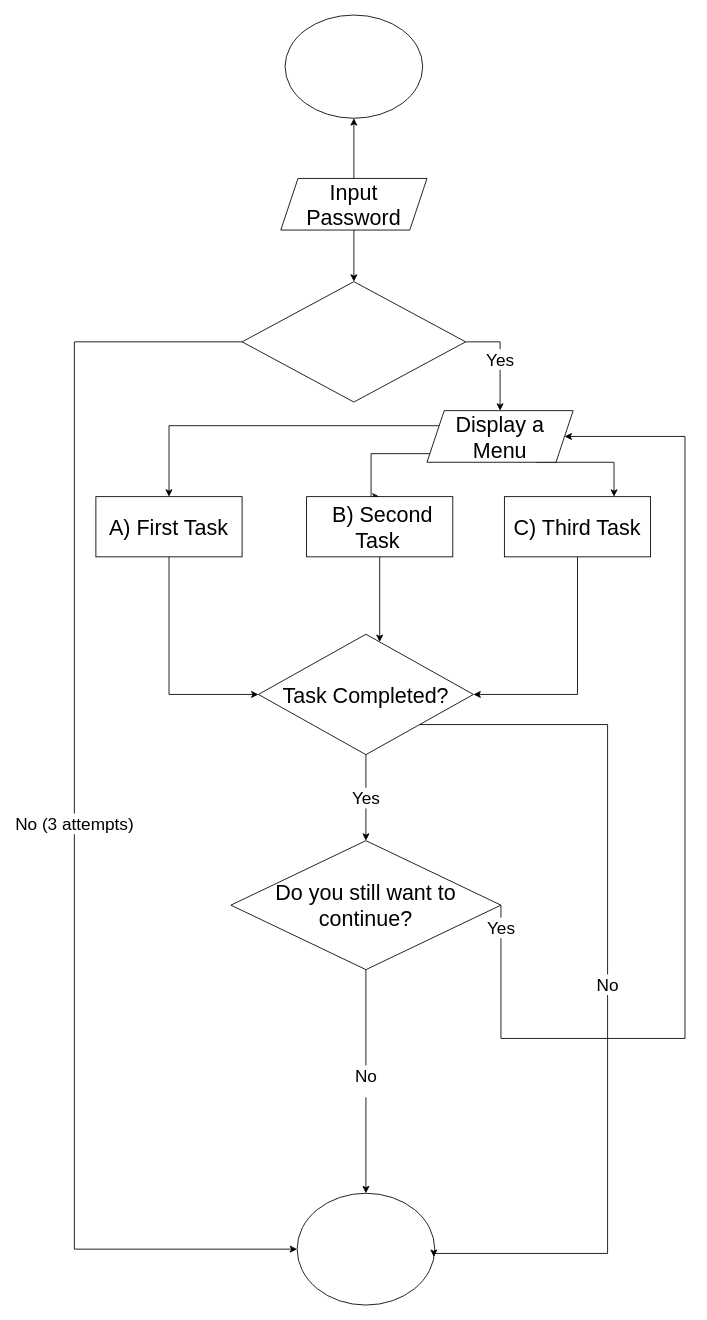
Image size: 707x1320. Some labels were removed from this diagram. Each missing label, with the box of its shape:
Exit Program: (296, 1192, 435, 1305)
Is the password correct?: (241, 281, 466, 402)
Start: (284, 14, 423, 118)
